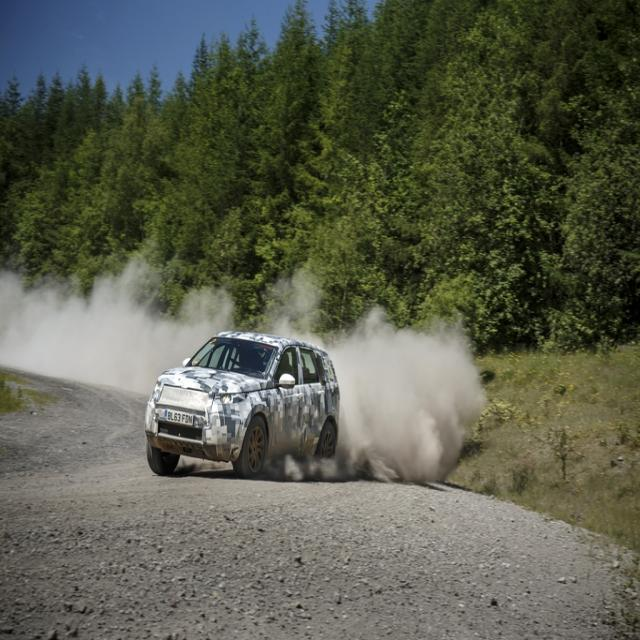car: (139, 325, 349, 485)
